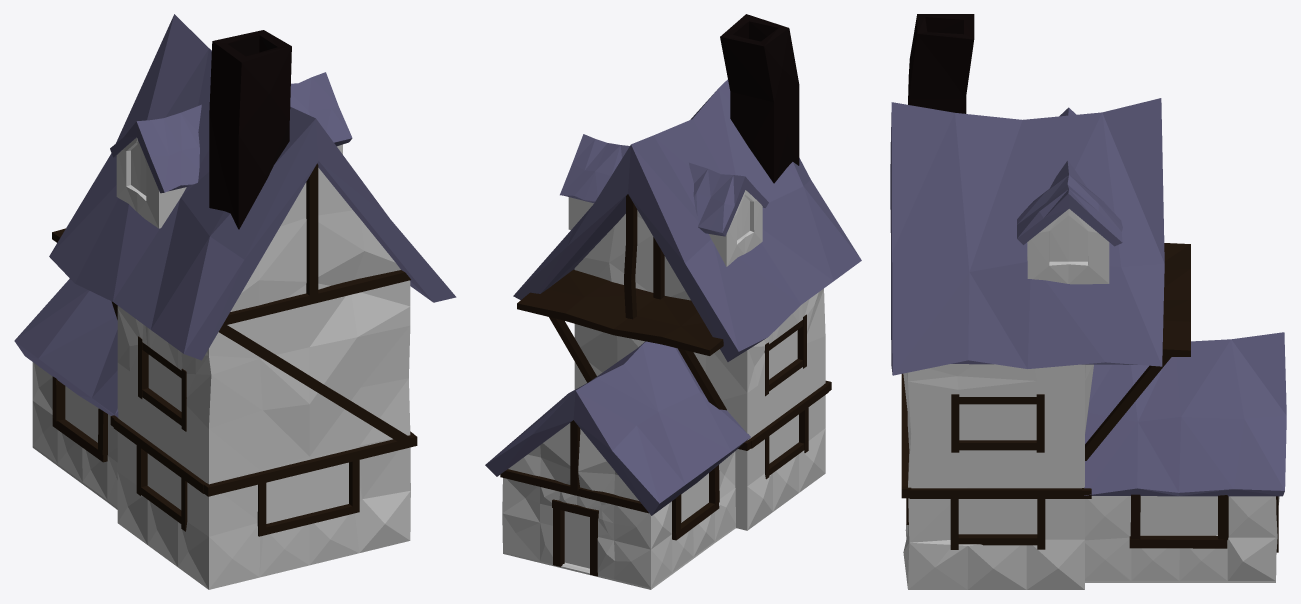
File: city.obj
The picture shows the model from 3 angles, left to right: view 1: azimuth 30°, elevation 25°; view 2: azimuth 150°, elevation 25°; view 3: azimuth 270°, elevation 25°; orthographic projection. The views are drawn at different scales.
Visible parts, largest first — view 1: Combined_Cube.117; view 2: Combined_Cube.117; view 3: Combined_Cube.117.
Boxes of the visible parts, bbox=[...] form: Combined_Cube.117: bbox=[14, 14, 456, 589]; Combined_Cube.117: bbox=[485, 14, 861, 589]; Combined_Cube.117: bbox=[890, 14, 1286, 589].
Bounding box in the file's own units: 0.6794 × 1.23 × 0.8775.
